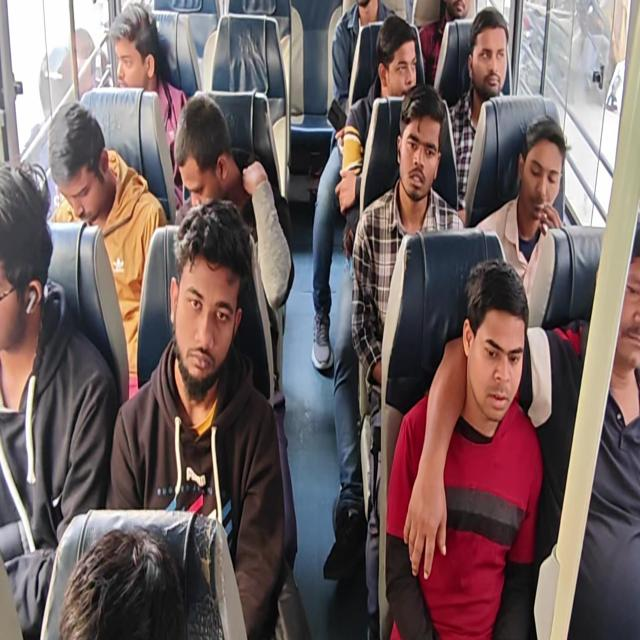person: (57, 527, 201, 640), (170, 205, 245, 398), (458, 254, 525, 418), (0, 157, 53, 359), (170, 94, 243, 218), (49, 101, 116, 223), (604, 205, 640, 389), (104, 5, 166, 109), (514, 113, 562, 218), (402, 82, 439, 203), (471, 10, 514, 96), (379, 15, 420, 99), (445, 0, 476, 22), (353, 0, 380, 20)
